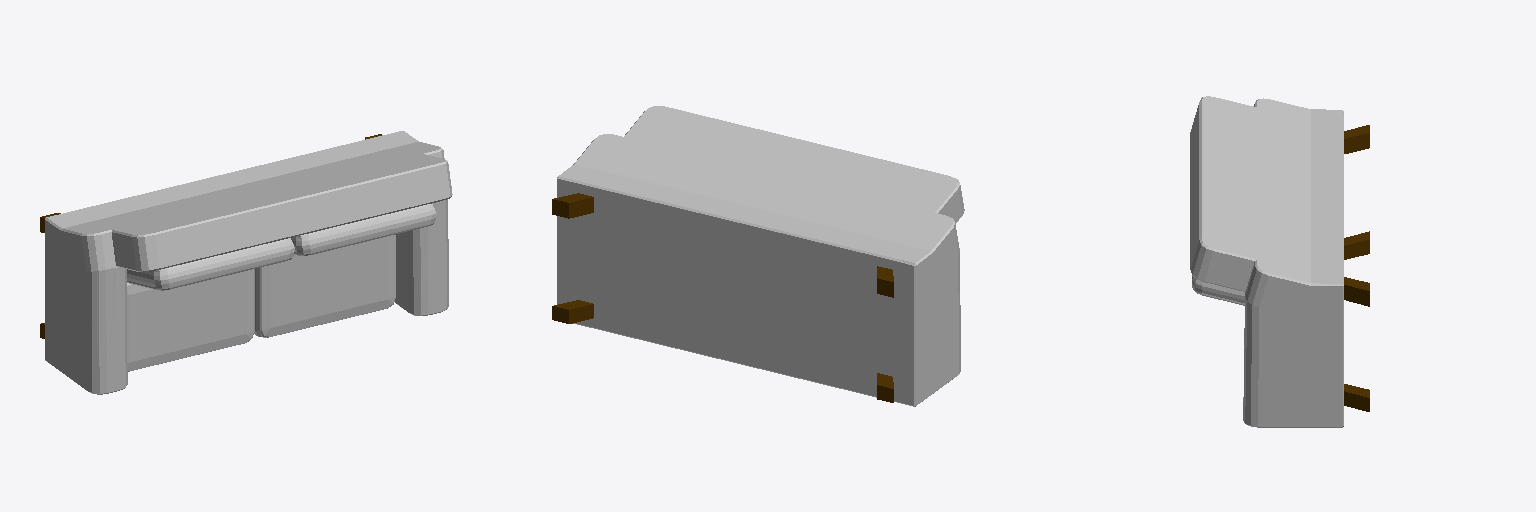
3 views of the same model, side by side, from view 1: azimuth 30°, elevation 25°; view 2: azimuth 150°, elevation 25°; view 3: azimuth 270°, elevation 25° (orthographic).
Parts seen in each view (by area): view 1: pCube83_Material.001; view 2: pCube83_Material.001, pCube83_Material; view 3: pCube83_Material.001, pCube83_Material.
Part boxes in pixels (left/top/right/bottom): pCube83_Material.001: left=45, top=131, right=452, bottom=394; pCube83_Material.001: left=557, top=106, right=964, bottom=406; pCube83_Material: left=552, top=193, right=893, bottom=402; pCube83_Material.001: left=1190, top=96, right=1343, bottom=427; pCube83_Material: left=1344, top=125, right=1369, bottom=411.
Size of the model in its own units: 0.7411 by 0.3391 by 0.3194.
Materials: 2 (1 with a texture image).